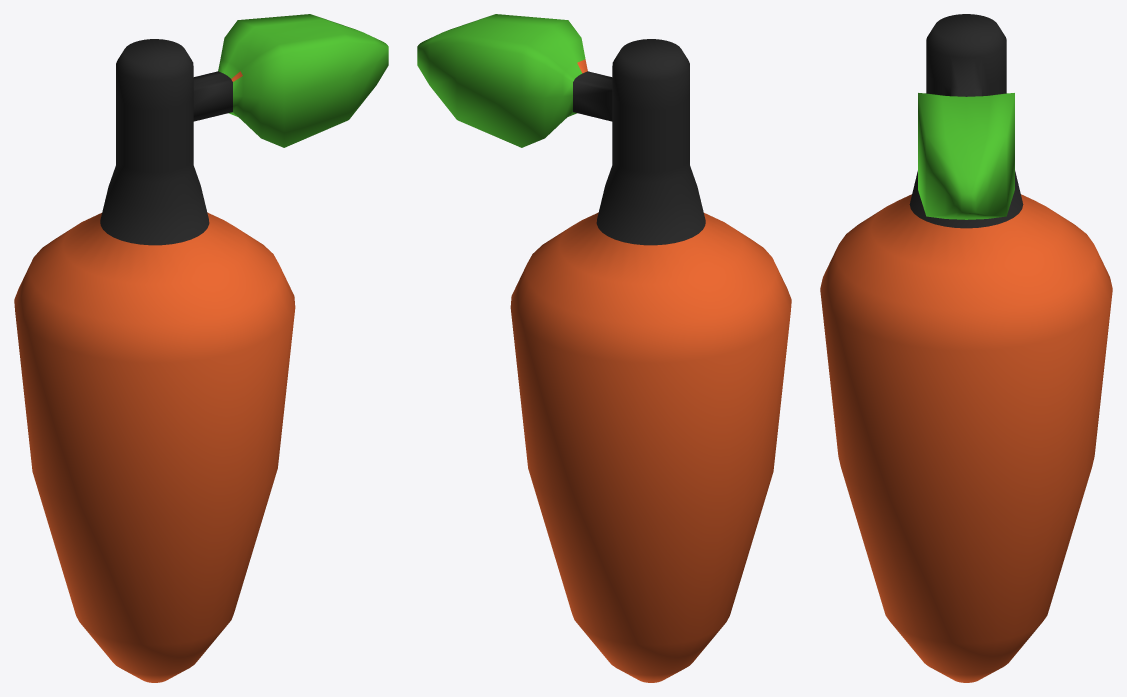
File: carots1.fbx
The picture shows the model from 3 angles, left to right: view 1: azimuth 30°, elevation 25°; view 2: azimuth 150°, elevation 25°; view 3: azimuth 270°, elevation 25°; orthographic projection. The views are drawn at different scales.
Parts seen in each view (by area): view 1: Circle; view 2: Circle; view 3: Circle.
Part boxes in pixels (x1,y1,x2,y2): Circle: [14, 14, 388, 682]; Circle: [417, 14, 791, 682]; Circle: [820, 14, 1112, 682].
Bounding box in the file's own units: 289 × 489 × 200.
